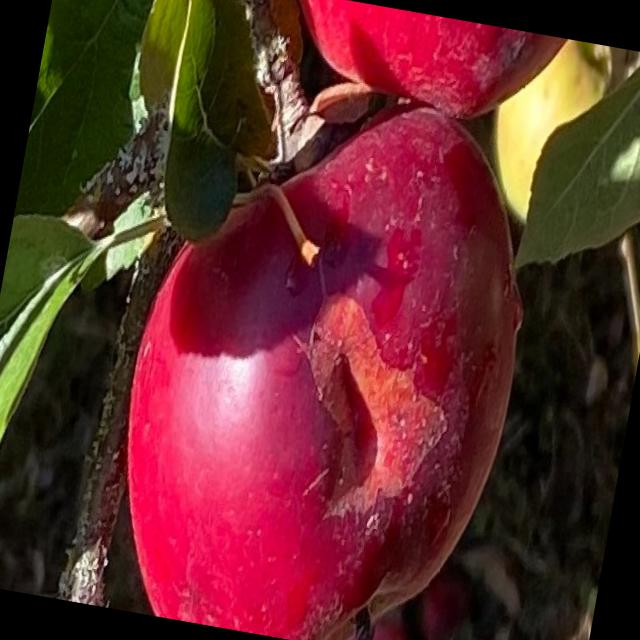Apples: (93, 70, 557, 639), (278, 0, 572, 131)
